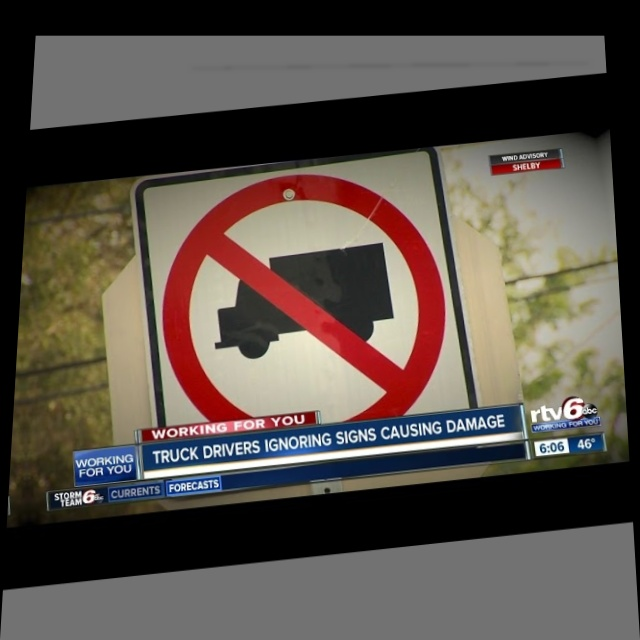Truck_Prohibited: (147, 166, 457, 425)
